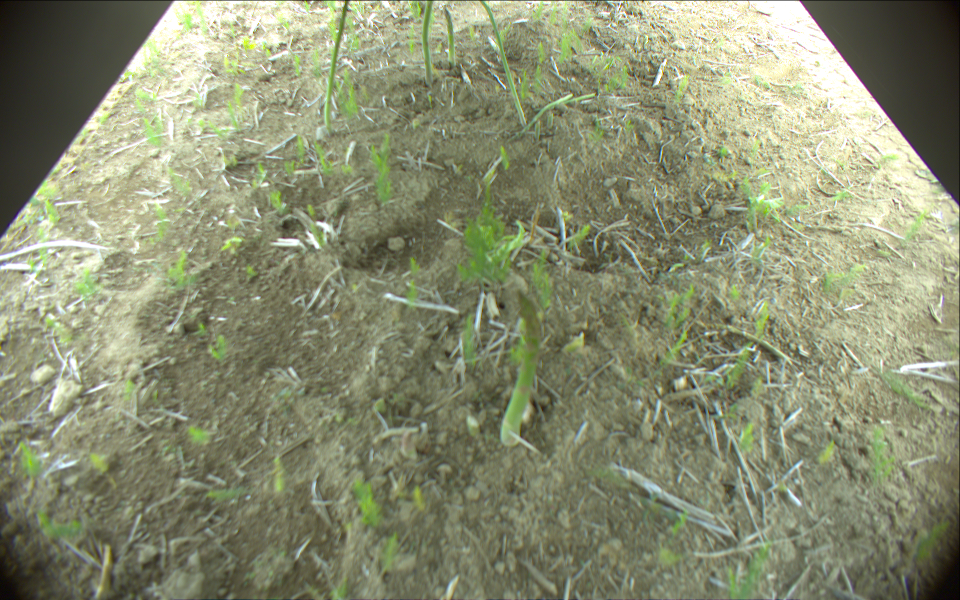aspa: (499, 290, 542, 446), (478, 1, 526, 127), (324, 1, 352, 133), (529, 91, 572, 126), (536, 93, 597, 112), (423, 1, 433, 83), (444, 6, 456, 64)
